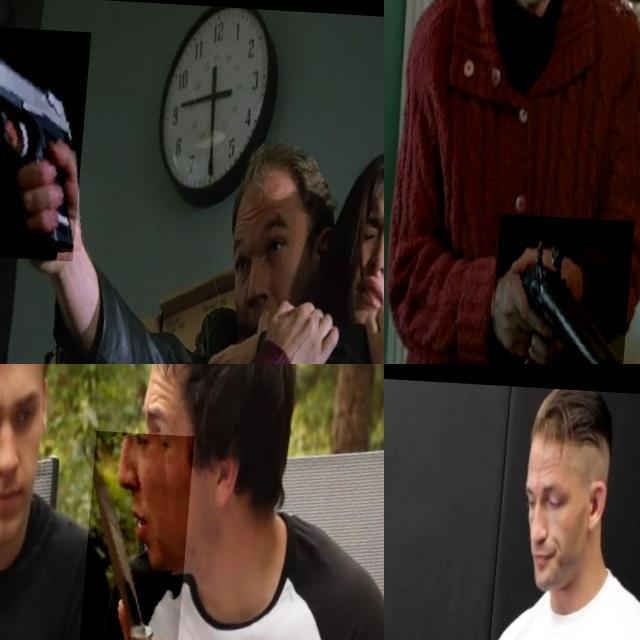-: (80, 427, 197, 640)
gun-knife-thesis - v11 Yolov5 augmented: (497, 210, 640, 364), (0, 23, 92, 258)
